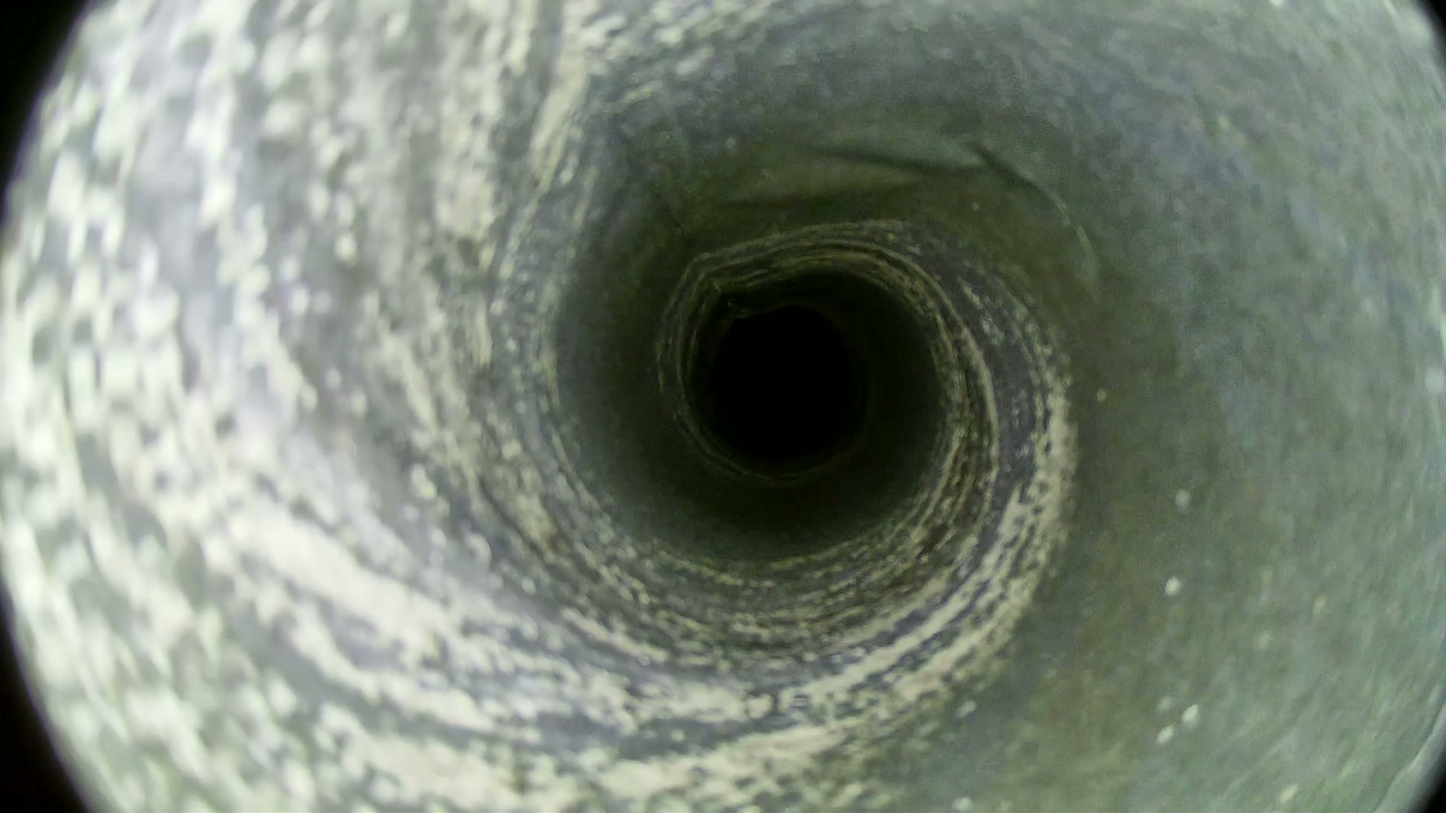hole: (711, 308, 852, 457)
